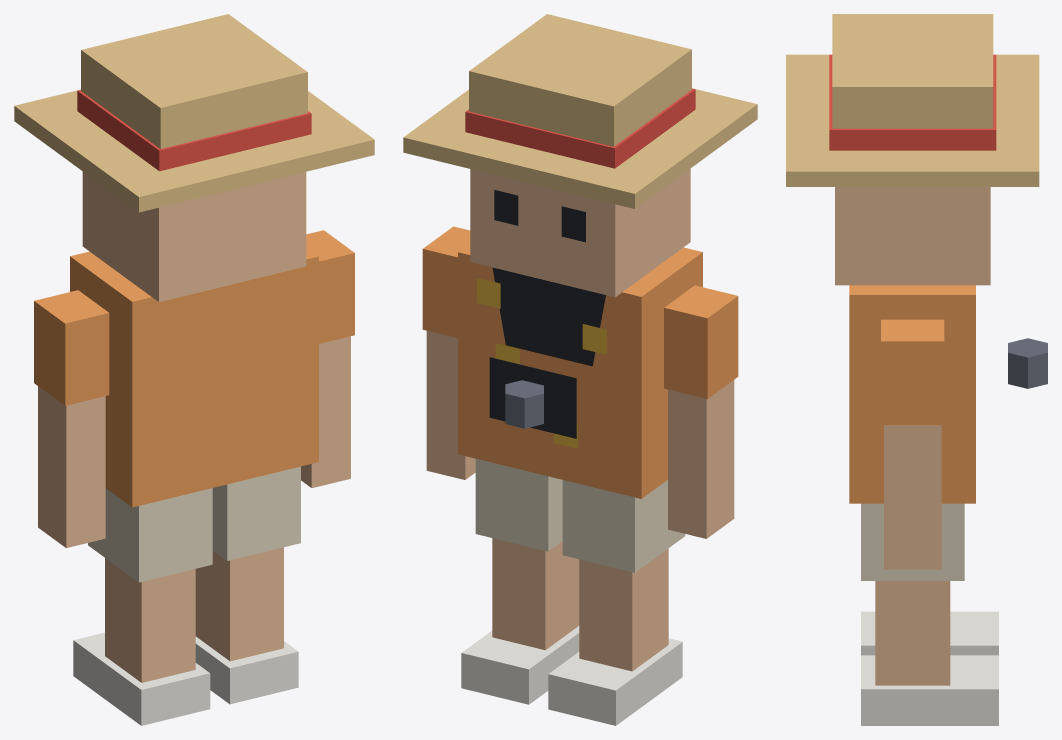
File: H_TouristM.fbx
3 renders of one model, left to right at view 1: azimuth 30°, elevation 25°; view 2: azimuth 150°, elevation 25°; view 3: azimuth 270°, elevation 25°, orthographic. The views are drawn at different scales.
Visible parts, largest first — view 1: H_TouristM; view 2: H_TouristM; view 3: H_TouristM.
Part boxes in pixels (box(x1,y1,x2,y2)): H_TouristM: box(14, 14, 374, 725); H_TouristM: box(403, 14, 757, 725); H_TouristM: box(786, 14, 1047, 725).
Bounding box in the file's own units: 0.59 × 1.22 × 0.4546.
